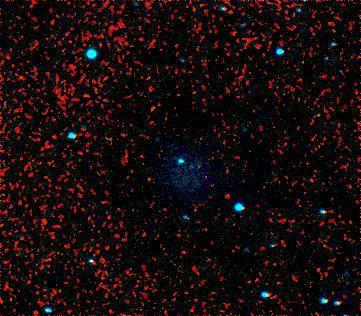star: (211, 181, 241, 211)
